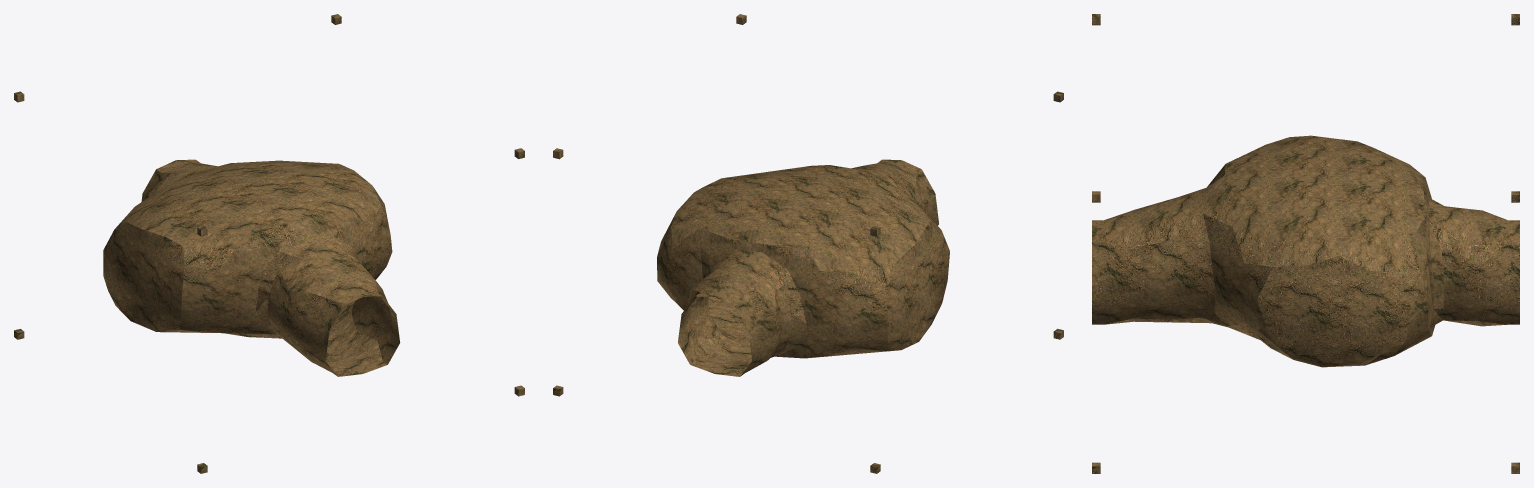
Rendered from lba_2i.glb.
3 views of the same model, side by side, from view 1: azimuth 30°, elevation 25°; view 2: azimuth 150°, elevation 25°; view 3: azimuth 270°, elevation 25° (orthographic). The views are drawn at different scales.
Parts seen in each view (by area): view 1: lba_2i-col; view 2: lba_2i-col; view 3: lba_2i-col.
Boxes of the visible parts, x1,y1,x2,y2 form: lba_2i-col: (14,14,524,473); lba_2i-col: (553,14,1063,473); lba_2i-col: (1092,14,1519,473).
Bounding box in the file's own units: 15 × 10.8 × 15.
Materials: 1 (1 with a texture image).
